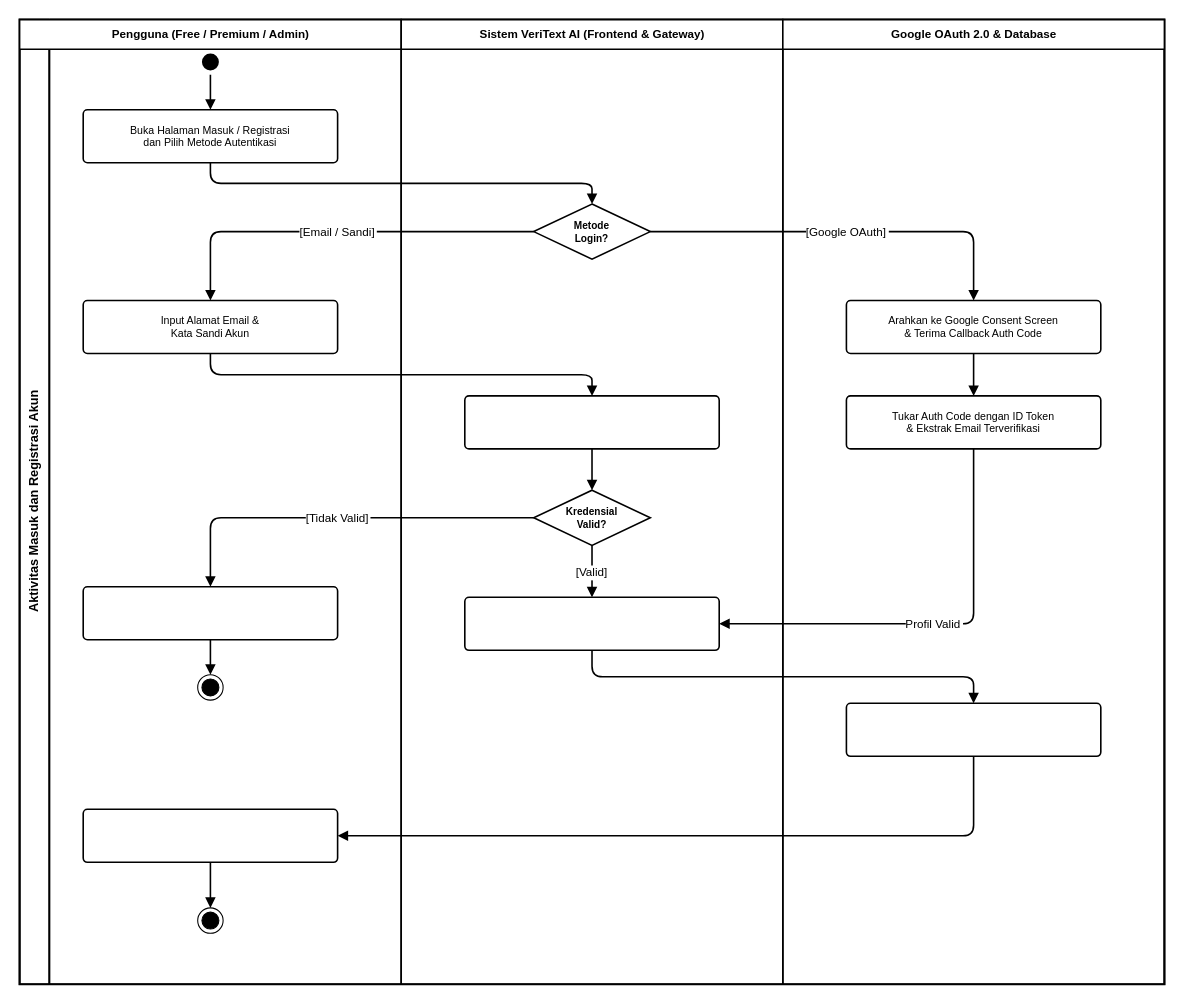
Image size: 1183x1003. Some labels were removed from this diagram. Each missing label, with the centre of its shape:
"Arahkan ke Dasbor Workspace (Alokasi 5 Token & 3x Trial)" belongs at (x=210, y=835).
"Generate JWT Access (15m) & Refresh Token (HttpOnly)" belongs at (x=592, y=623).
"Simpan Sesi Pengguna & Catat Audit Log Login" belongs at (x=973, y=729).
"Tolak & Tampilkan Notifikasi: 'Email atau Password Salah'" belongs at (x=210, y=612).
"Validasi Format & Verifikasi Hash Kata Sandi (Bcrypt)" belongs at (x=592, y=422).
